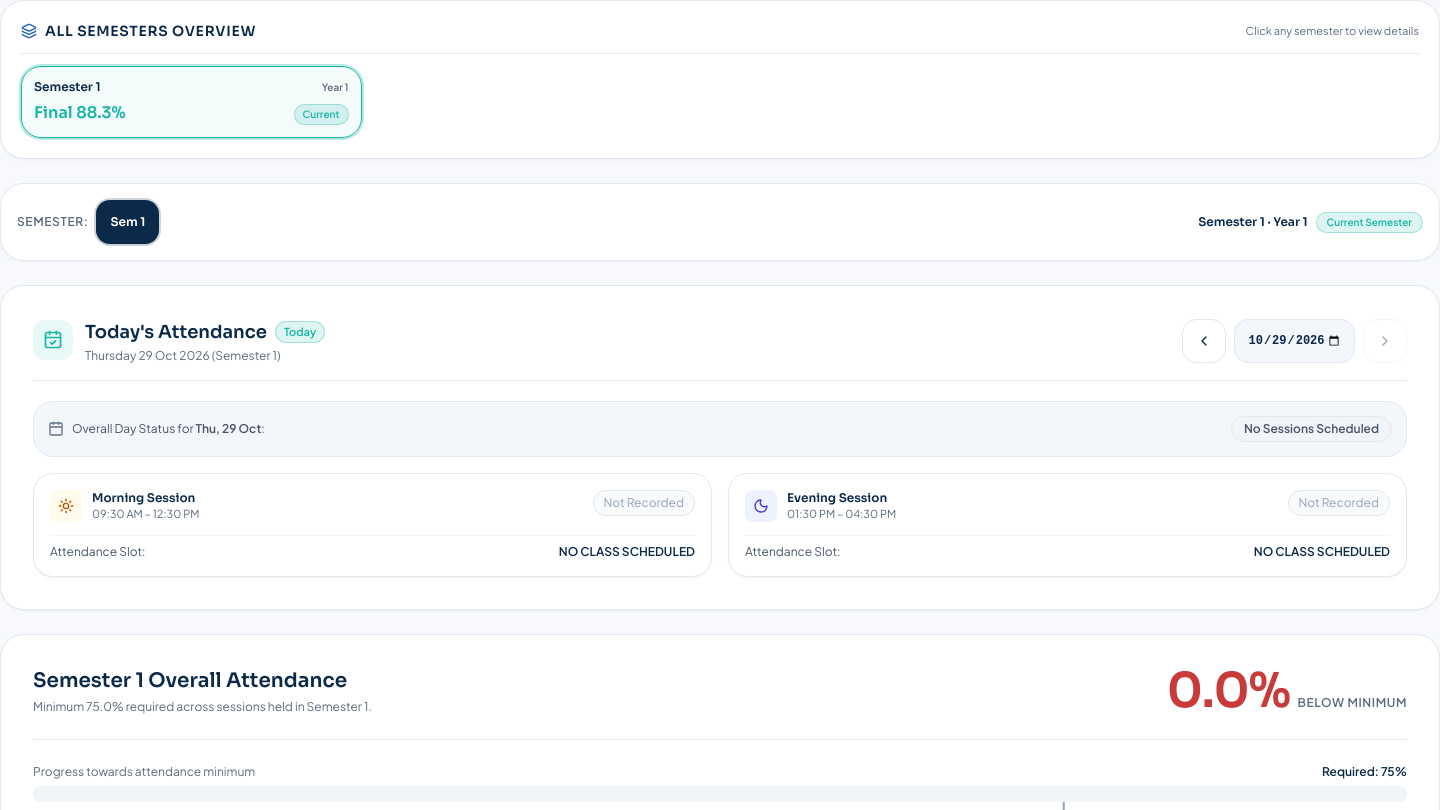
it: Account Reset & First-Time Verification Tests › 8. Student can select date to view day-wise attendance and return to today
The width and height of the screenshot is (1440, 810).
Check: the heading "Today's Attendance" is shown, box [85, 318, 267, 346]
Note: Pick past date 2026-10-15
Type "2026-10-15" into the date field named "choose attendance date" at (1294, 341), box [1234, 319, 1355, 363]
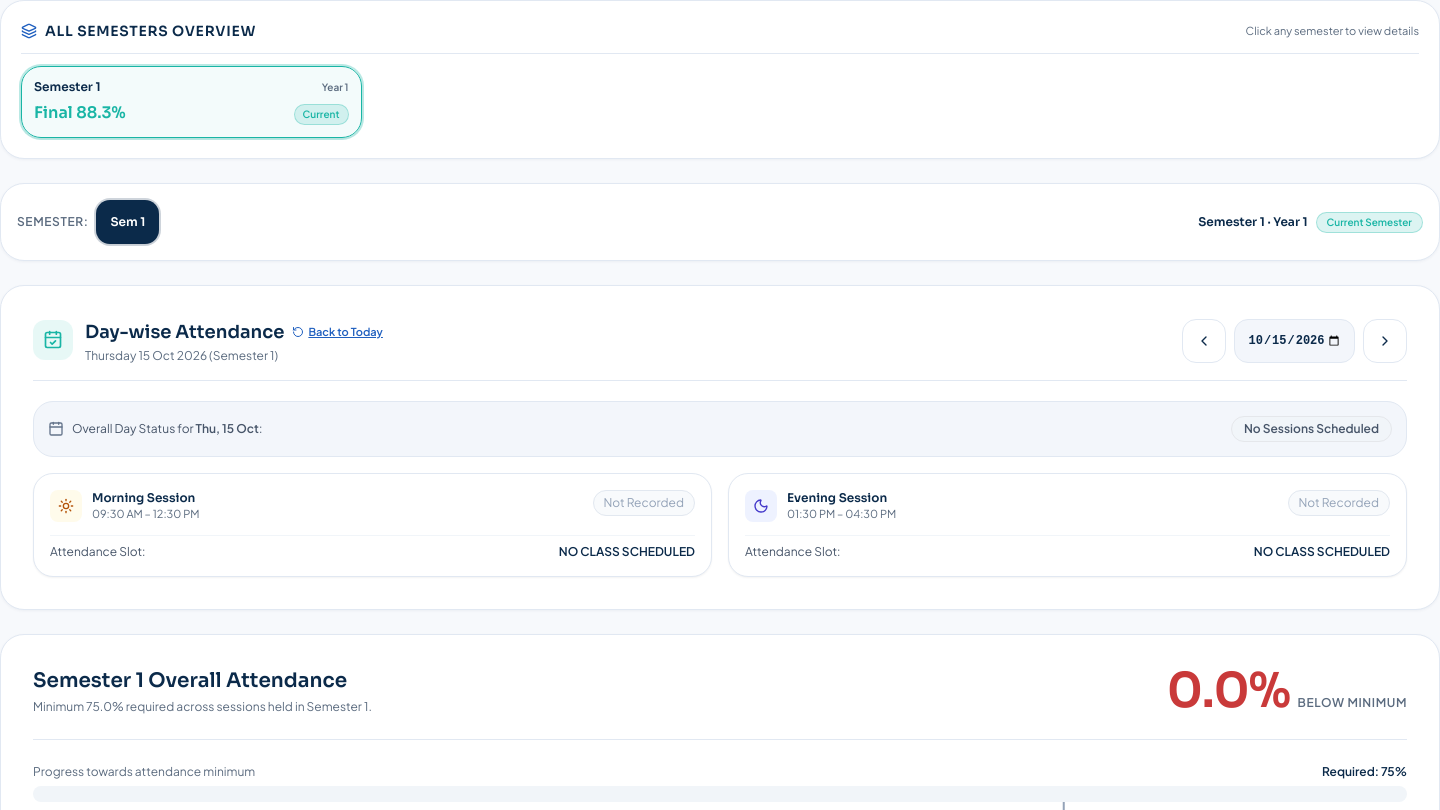
Check: the heading "Day-wise Attendance" is shown, box [85, 318, 284, 346]
Check: the text "Back to Today" is shown, box [308, 324, 383, 340]
Note: Click Back to Today
Click the button "Back to Today" at (338, 332), box [292, 324, 383, 340]
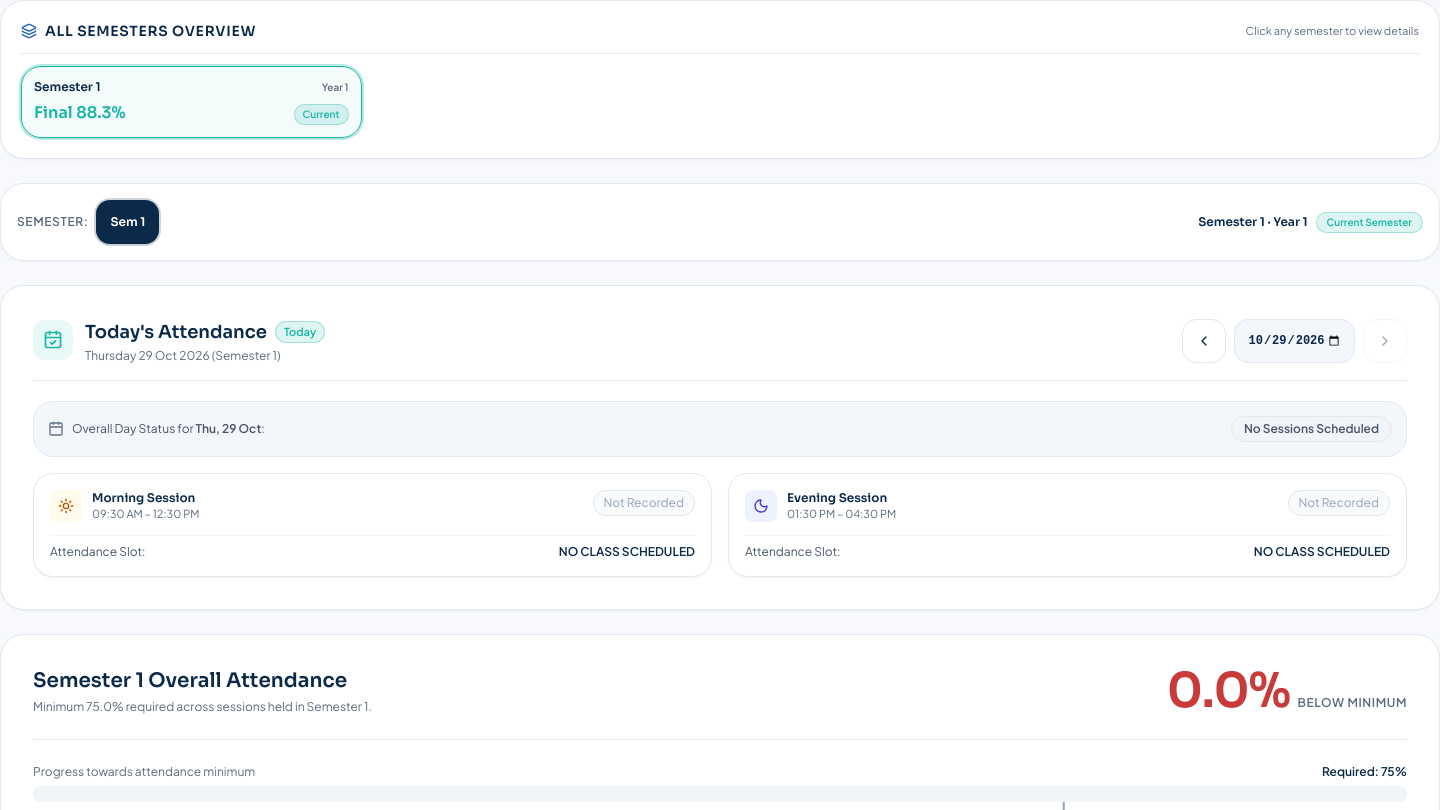
Check: the heading "Today's Attendance" is shown, box [85, 318, 267, 346]
